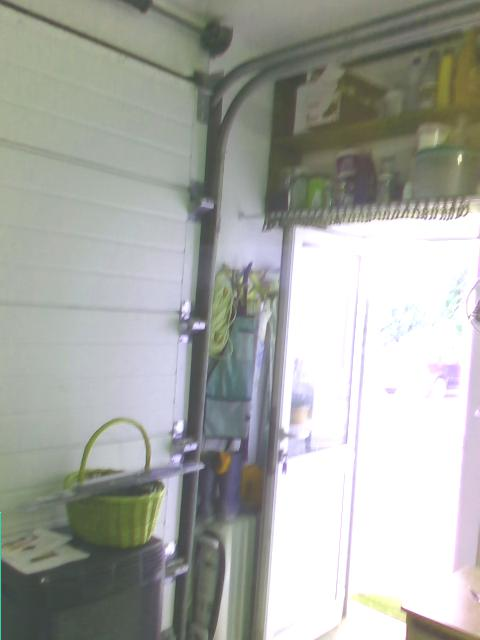open_door: (302, 229, 479, 639)
